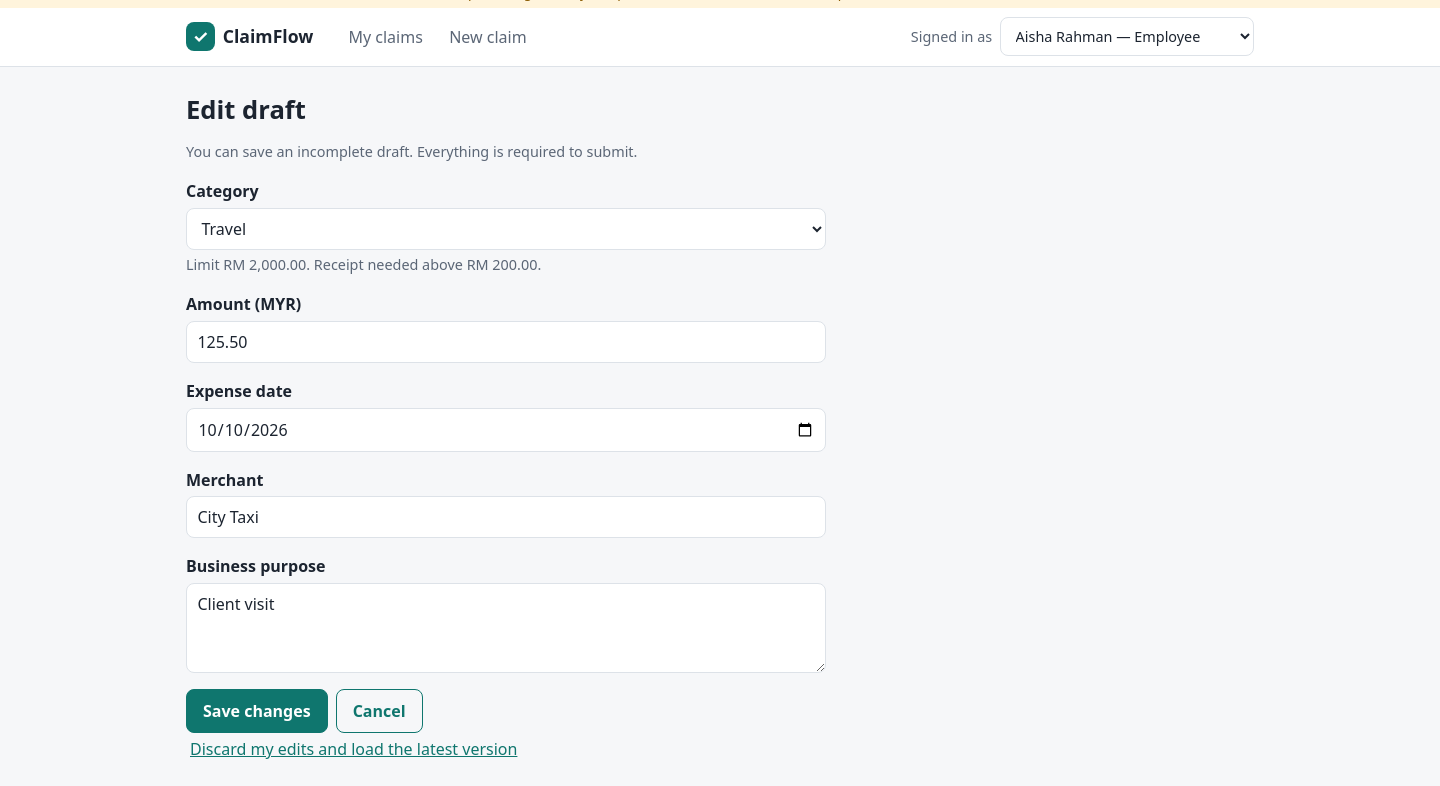
Test: creating and editing drafts › explains a version conflict instead of overwriting
Click the button "Save changes". click: (257, 711)
box: [186,689,328,733]
(page scrolled)
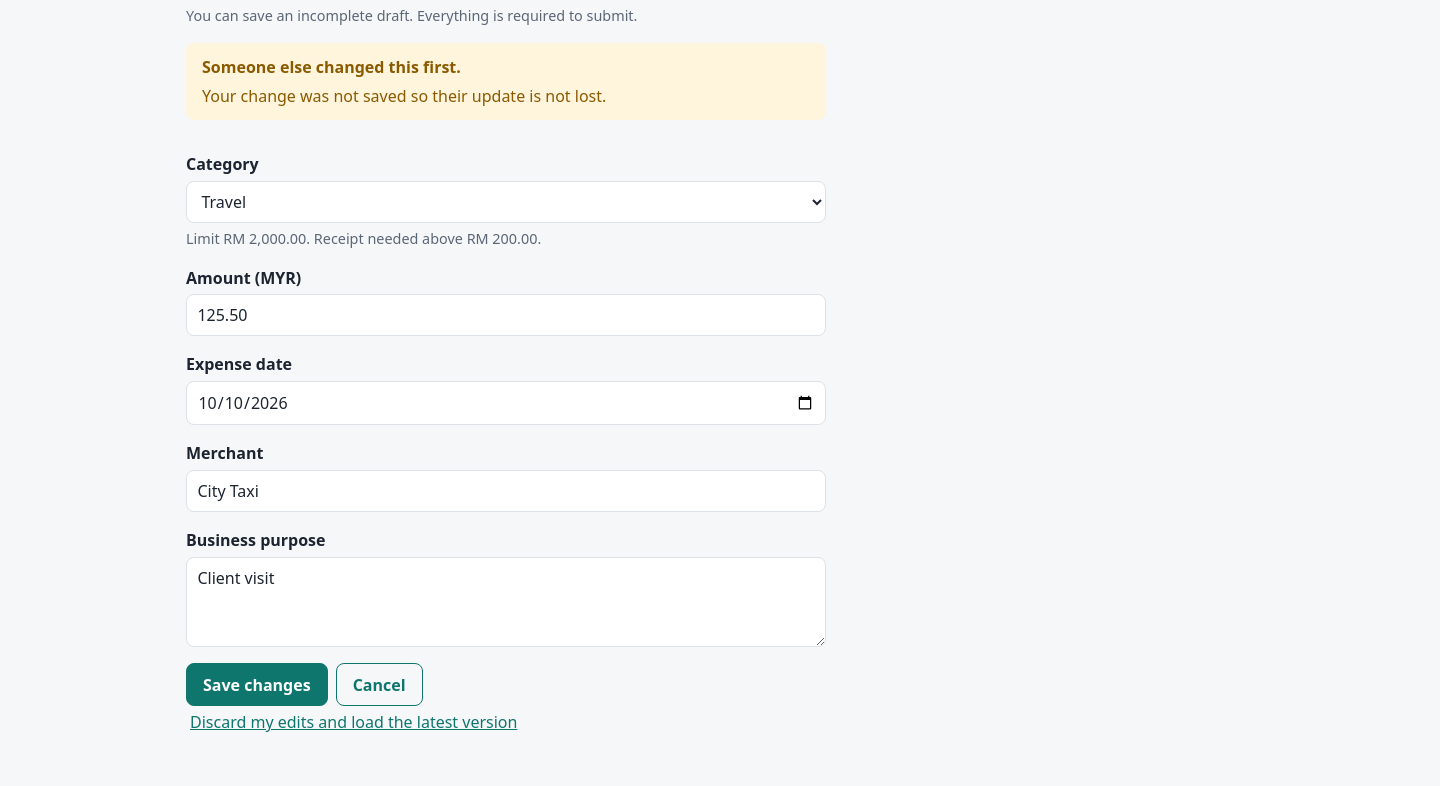
Now the message shows "Someone else changed this first.", box [202,56,461,78]
Click the button "Discard my edits and load the latest version". click: (354, 722)
box: [186,706,521,738]
(page scrolled)
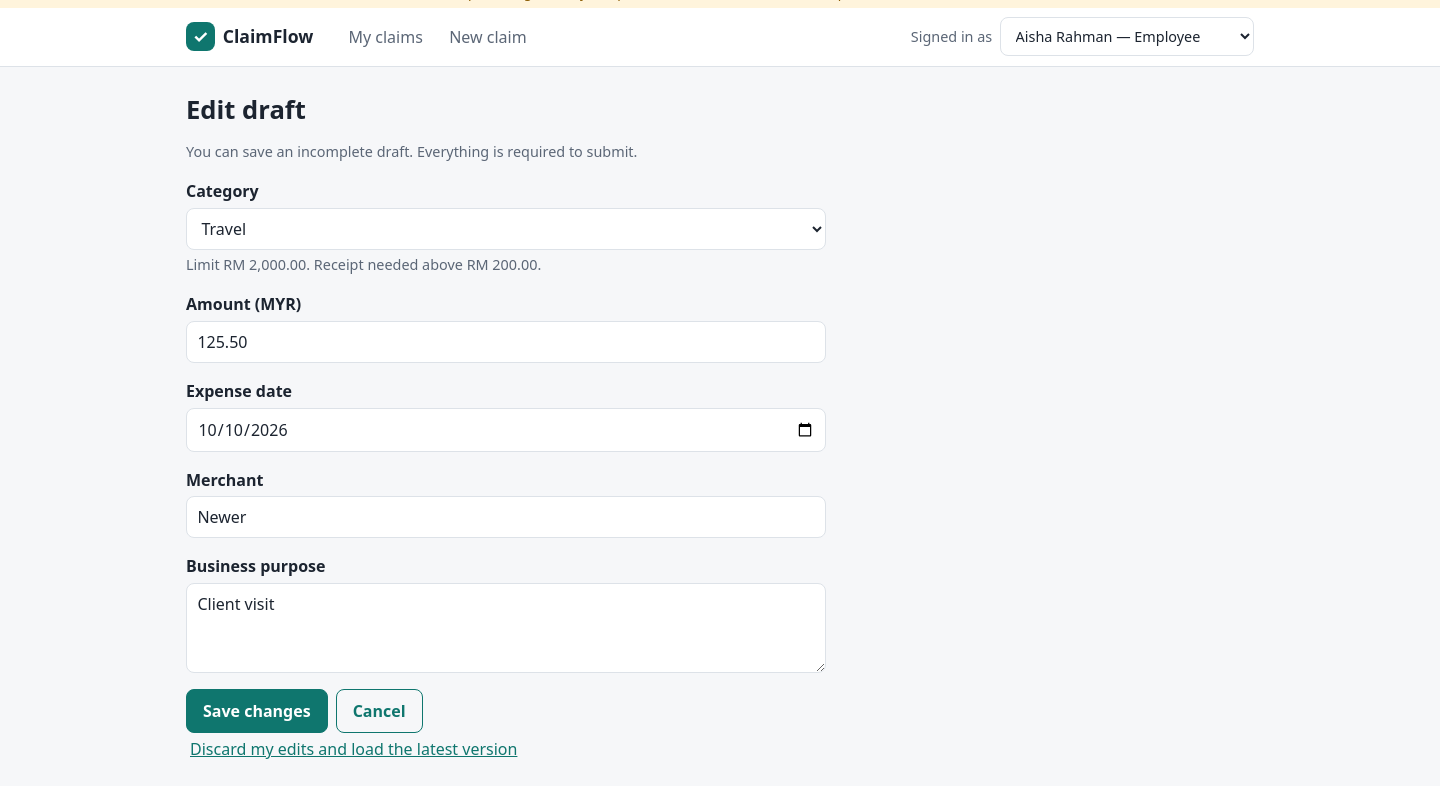
Now the field labelled "Merchant" holds "Newer", box [186,496,826,538]
